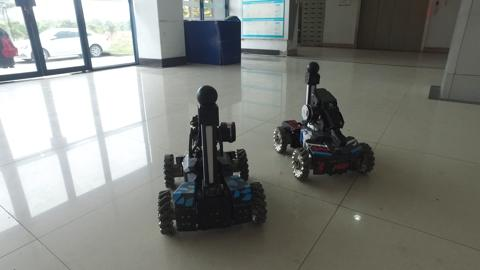chariot: (153, 75, 271, 242), (268, 55, 379, 187)
